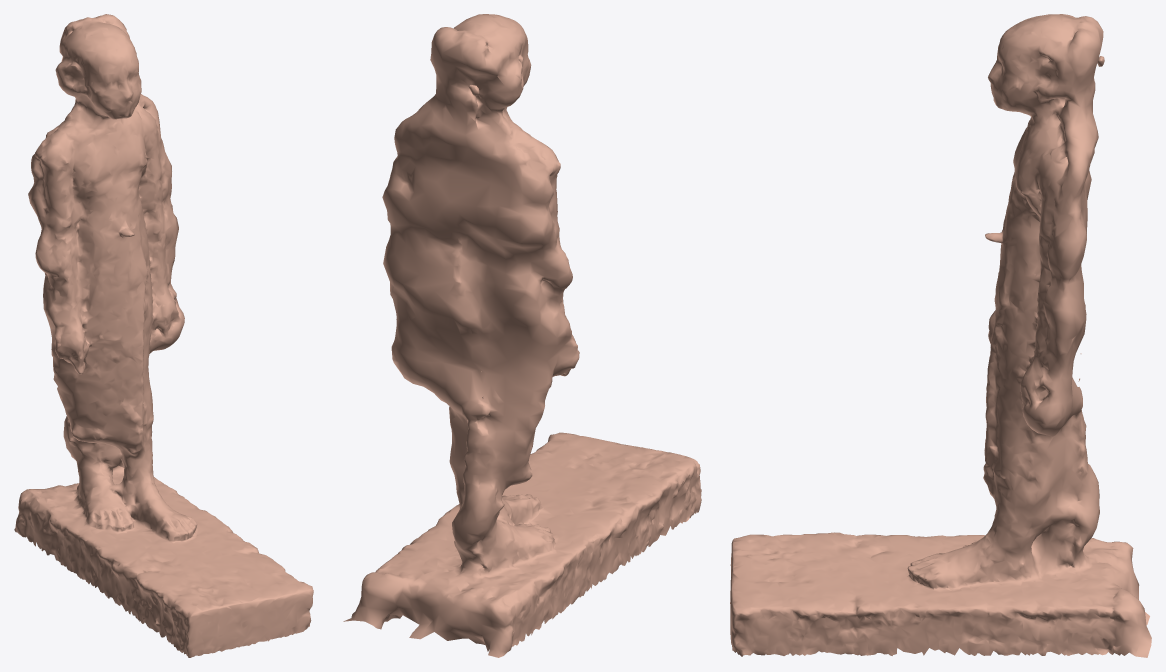
Rendered from wc-mahg-standing-man-figurine.glb.
3 views of the same model, side by side, from view 1: azimuth 30°, elevation 25°; view 2: azimuth 150°, elevation 25°; view 3: azimuth 270°, elevation 25° (orthographic). The views are drawn at different scales.
Parts seen in each view (by area): view 1: wc-mahg-standing-man-figurine; view 2: wc-mahg-standing-man-figurine; view 3: wc-mahg-standing-man-figurine.
Part boxes in pixels (x1,y1,x2,y2): wc-mahg-standing-man-figurine: (14, 14, 313, 657); wc-mahg-standing-man-figurine: (343, 14, 701, 657); wc-mahg-standing-man-figurine: (730, 14, 1151, 657).
Size of the model in its own units: 0.0615 by 0.2 by 0.1281.
